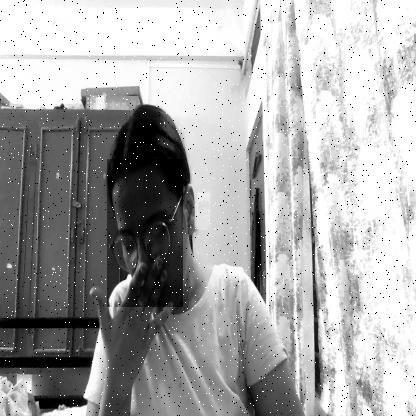Distracted: (106, 159, 182, 308)
